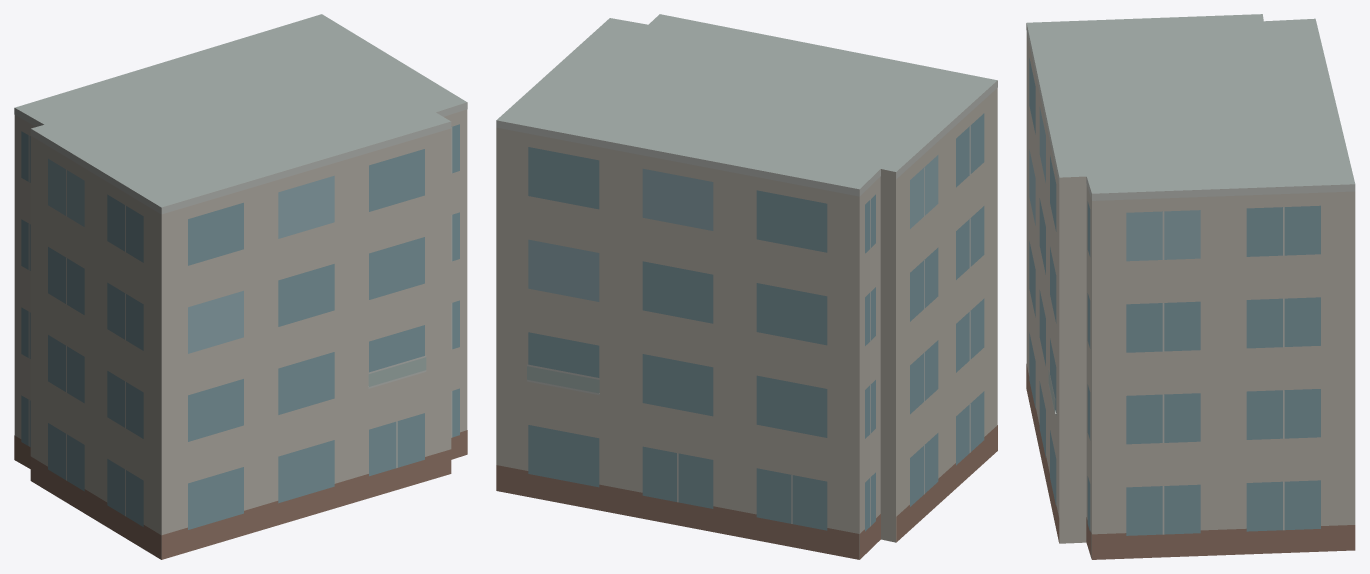
File: survey-upis-32655444.glb
3 views of the same model, side by side, from view 1: azimuth 30°, elevation 25°; view 2: azimuth 150°, elevation 25°; view 3: azimuth 270°, elevation 25° (orthographic). The views are drawn at different scales.
Visible parts, largest first — view 1: survey-upis-32655444.tmp; view 2: survey-upis-32655444.tmp; view 3: survey-upis-32655444.tmp.
Boxes of the visible parts, <box> form: survey-upis-32655444.tmp: <box>14,14,467,559</box>; survey-upis-32655444.tmp: <box>496,14,997,559</box>; survey-upis-32655444.tmp: <box>1026,14,1355,559</box>.
Bounding box in the file's own units: 13.01 × 12.35 × 10.06.
